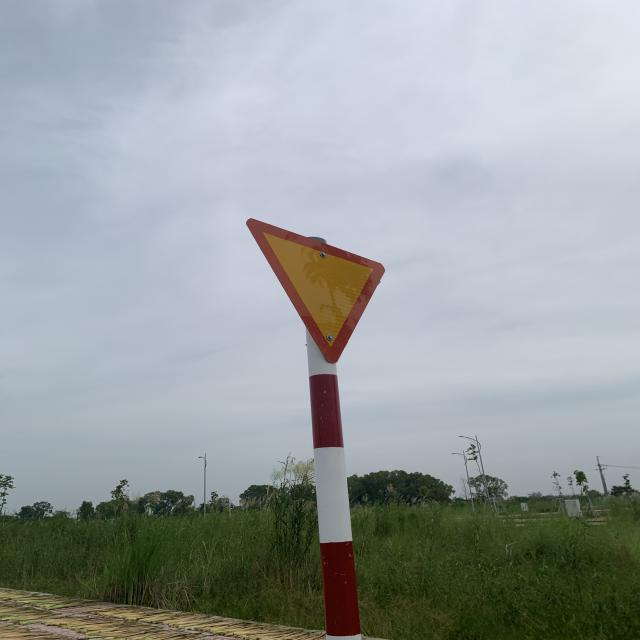Gioi_Han_Toc_Do_25: (245, 218, 384, 364)
